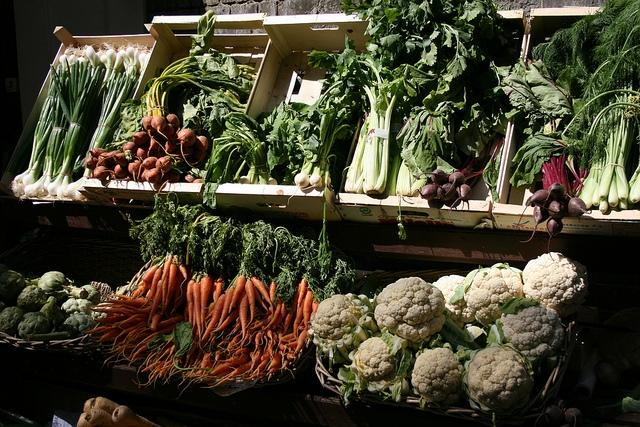carrot: (117, 324, 176, 362), (218, 286, 248, 354), (200, 356, 262, 388), (126, 313, 186, 338), (200, 294, 226, 342), (228, 312, 258, 348), (141, 263, 164, 307), (283, 283, 301, 336), (154, 255, 172, 305), (158, 263, 178, 308), (148, 270, 164, 326), (210, 306, 240, 334), (114, 320, 146, 346), (216, 287, 235, 330), (290, 293, 306, 342), (188, 364, 242, 378), (137, 351, 156, 389), (200, 277, 212, 335), (228, 276, 246, 314), (193, 353, 250, 365), (178, 360, 200, 388), (96, 294, 146, 306), (244, 280, 256, 328), (269, 302, 288, 331), (118, 313, 150, 330), (174, 268, 185, 315), (303, 288, 313, 332), (95, 328, 124, 343), (109, 304, 152, 314), (253, 286, 268, 314), (152, 345, 172, 366), (126, 284, 152, 300), (297, 280, 306, 322), (142, 265, 158, 286), (95, 314, 127, 324), (131, 344, 148, 362), (88, 306, 124, 314), (186, 350, 198, 374), (84, 326, 118, 334), (268, 331, 277, 359), (310, 298, 320, 322), (159, 362, 172, 378), (276, 330, 284, 356), (233, 346, 249, 358), (210, 334, 218, 356), (269, 280, 276, 305), (212, 279, 218, 304), (258, 360, 268, 374), (263, 334, 268, 356), (278, 350, 288, 360), (184, 304, 189, 322), (261, 351, 270, 361), (243, 336, 250, 346), (109, 306, 141, 308), (290, 335, 300, 341), (214, 362, 222, 368), (299, 325, 305, 331)
cauliflower: (449, 262, 526, 328), (374, 276, 446, 342), (522, 252, 588, 317), (468, 346, 528, 410), (500, 303, 564, 357), (412, 348, 464, 400), (311, 295, 353, 340), (432, 275, 466, 321), (354, 338, 394, 375)
celery: (396, 78, 466, 198), (303, 80, 379, 188), (598, 108, 624, 199), (348, 111, 371, 191), (382, 154, 402, 196)
